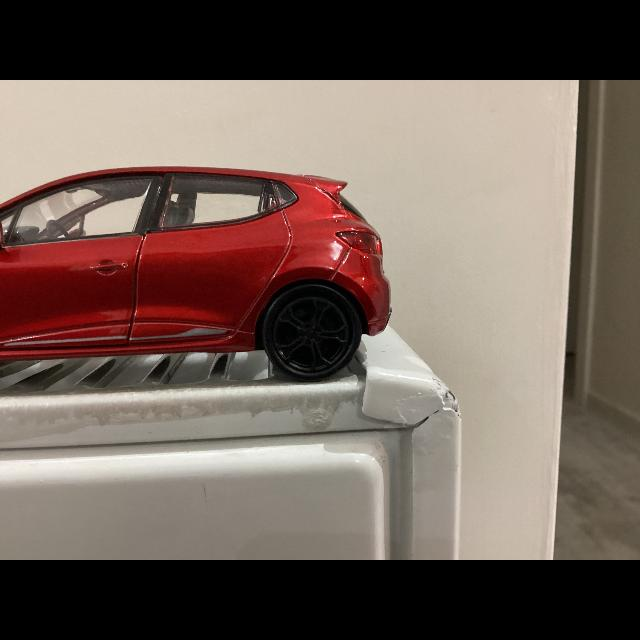Dogru_Jant: (274, 296, 350, 370)
